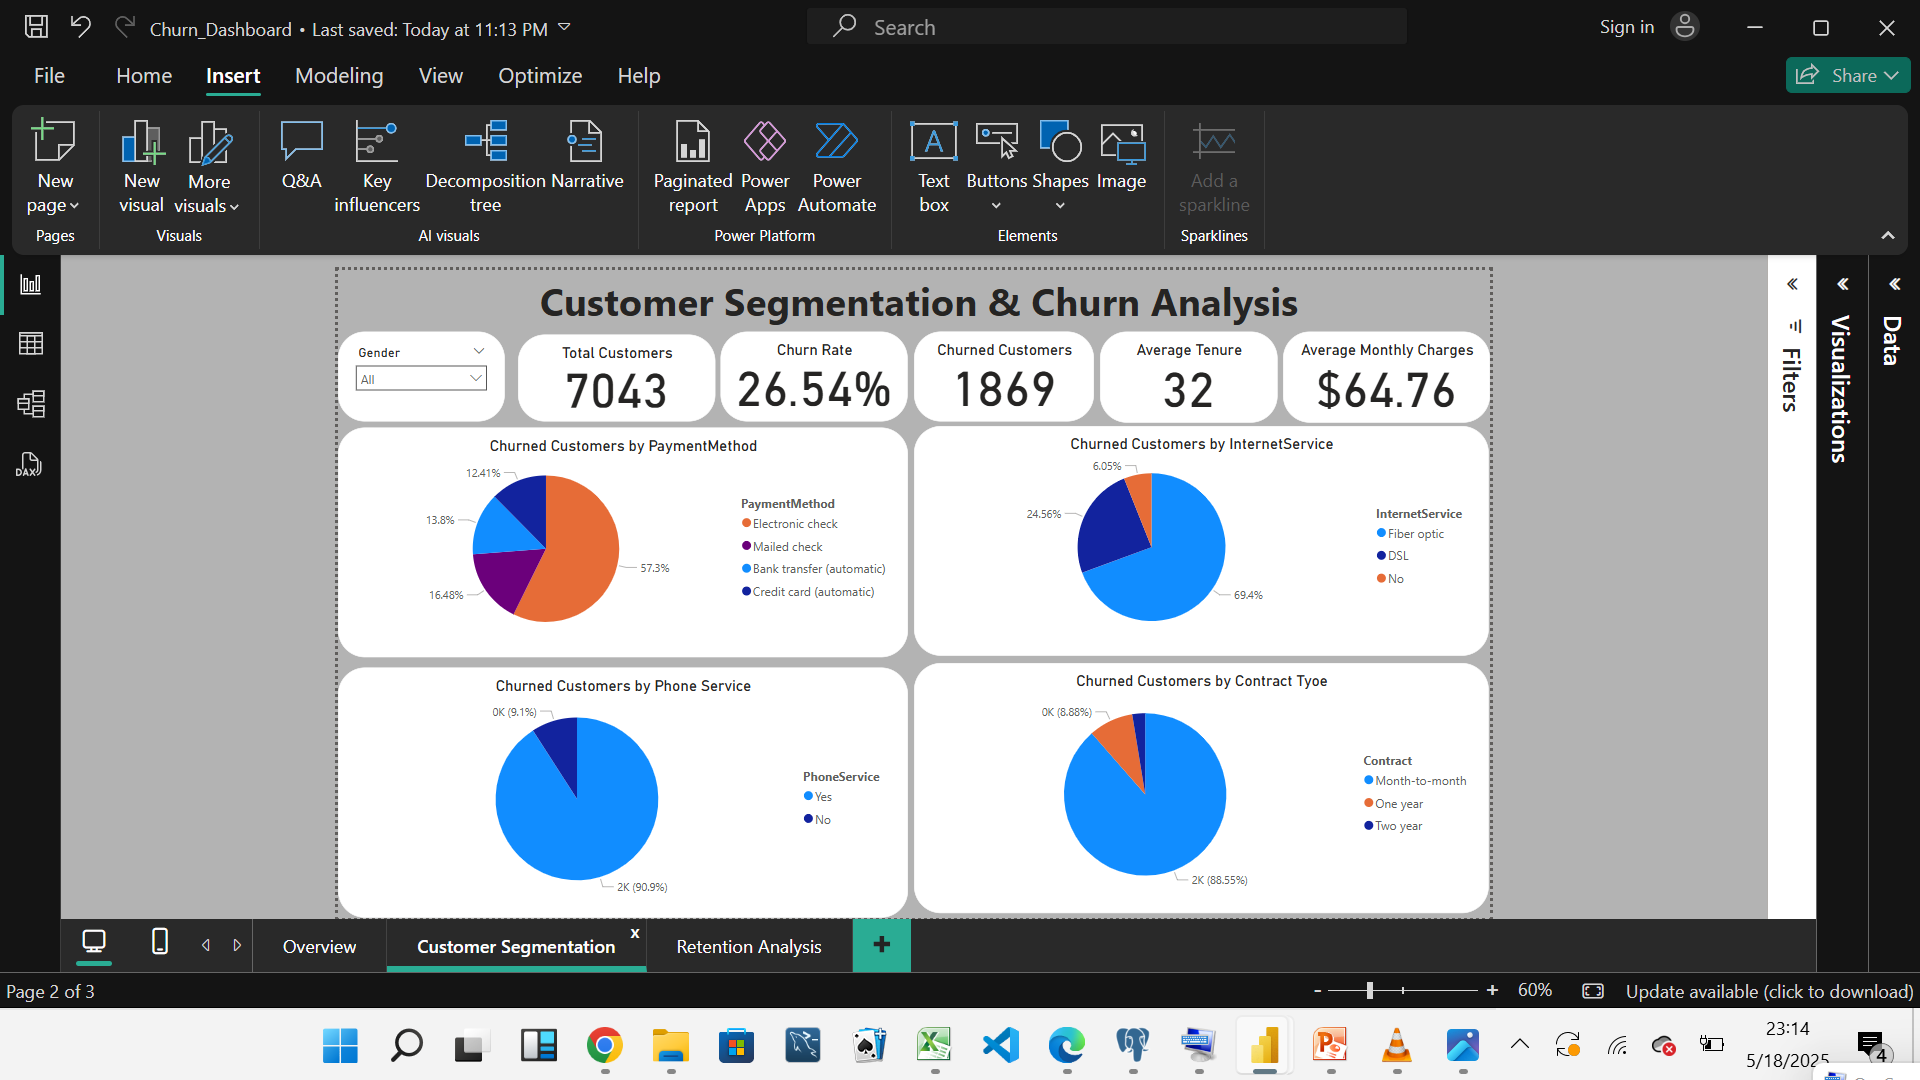

The page's visual inventory and layout, read from the dashboard file:
{"tool":"powerbi","page":{"name":"Customer Segmentation","canvas":[1280,720],"ordinal":1},"visuals":[{"type":"card","title":"Average Tenure","fields":{"Values":["CustomerChurn.Average Tenure"]},"box":[846.5,67.9,197.1,101],"z":0},{"type":"card","title":"Average Monthly Charges","fields":{"Values":["CustomerChurn.Average Monthly Charges"]},"box":[1049.7,67.9,230.3,101],"z":1000},{"type":"card","title":"Churn Rate","fields":{"Values":["CustomerChurn.Churn Rate"]},"box":[425.2,68,207.9,100.2],"z":2000},{"type":"pieChart","title":"Churned Customers by Phone Service","fields":{"Y":["CustomerChurn.Churned Customers"],"Category":["CustomerChurn.PhoneService"]},"box":[0,442.2,633.1,277.8],"z":3000},{"type":"pieChart","fields":{"Y":["CustomerChurn.Churned Customers"],"Category":["CustomerChurn.InternetService"]},"box":[640.6,173.9,638.7,255.1],"z":4000},{"type":"pieChart","title":"Churned Customers by Contract Tyoe","fields":{"Y":["CustomerChurn.Churned Customers"],"Category":["CustomerChurn.Contract"]},"box":[640.6,436.5,638.7,277.8],"z":5000},{"type":"pieChart","fields":{"Category":["CustomerChurn.PaymentMethod"],"Y":["CustomerChurn.Churned Customers"]},"box":[0,175.7,633.1,255.1],"z":6000},{"type":"textbox","box":[0,0,1279.4,68],"z":7000},{"type":"card","title":"Total Customers","fields":{"Values":["CustomerChurn.Total Customers"]},"box":[200.3,71.8,219.2,96.4],"z":8000},{"type":"slicer","fields":{"Values":["CustomerChurn.Gender"]},"box":[0,68,185.2,100.2],"z":9000},{"type":"card","title":"Churned Customers","fields":{"Values":["CustomerChurn.Churned Customers"]},"box":[640.6,68,200.3,100.2],"z":10000}]}

Visuals, with their boxes on the page's 1280x720 design canvas (x1, y1, x2, y2). These are canvas units, not pixel positions in the 1920x1080 screenshot, which may show the page scaled, cropped or inside an application window:
"Average Tenure" card: <bbox>846, 68, 1044, 169</bbox>
"Average Monthly Charges" card: <bbox>1050, 68, 1280, 169</bbox>
"Churn Rate" card: <bbox>425, 68, 633, 168</bbox>
"Churned Customers by Phone Service" pieChart: <bbox>0, 442, 633, 720</bbox>
pieChart - CustomerChurn.Churned Customers x CustomerChurn.InternetService: <bbox>641, 174, 1279, 429</bbox>
"Churned Customers by Contract Tyoe" pieChart: <bbox>641, 436, 1279, 714</bbox>
pieChart - CustomerChurn.PaymentMethod x CustomerChurn.Churned Customers: <bbox>0, 176, 633, 431</bbox>
textbox: <bbox>0, 0, 1279, 68</bbox>
"Total Customers" card: <bbox>200, 72, 420, 168</bbox>
slicer - CustomerChurn.Gender: <bbox>0, 68, 185, 168</bbox>
"Churned Customers" card: <bbox>641, 68, 841, 168</bbox>
